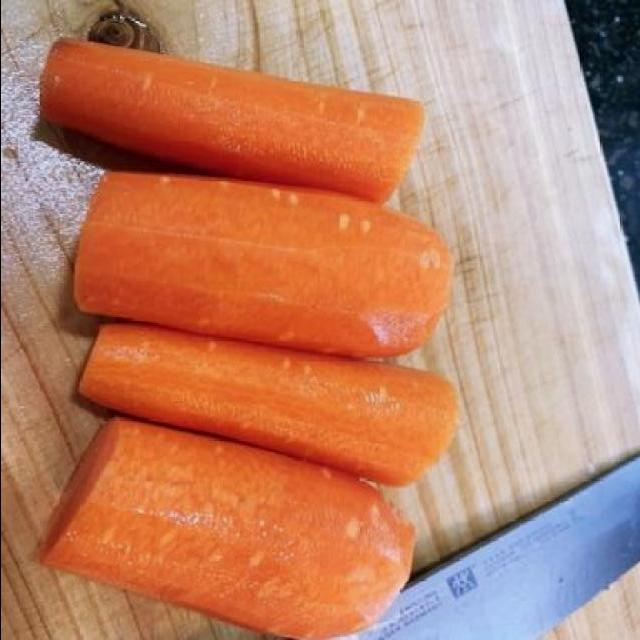carrot: (39, 413, 423, 640), (68, 172, 456, 360), (68, 320, 465, 491), (29, 40, 433, 203)
